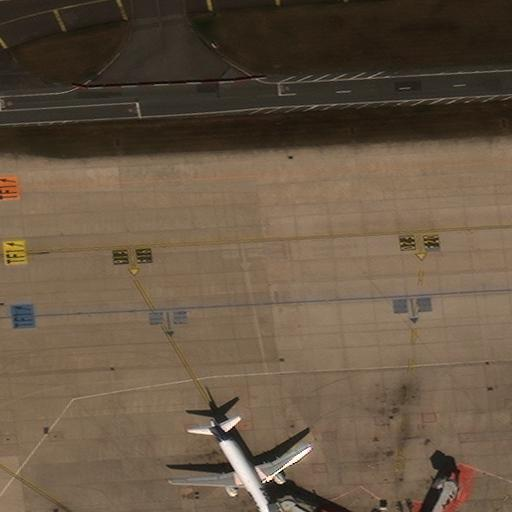Medium Civil Transport: (168, 419, 310, 511)
